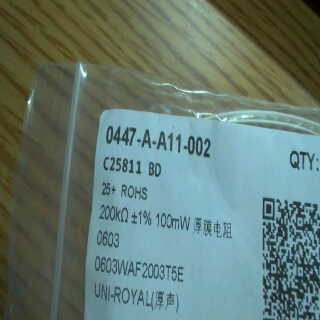200kR: (96, 200, 132, 222)
